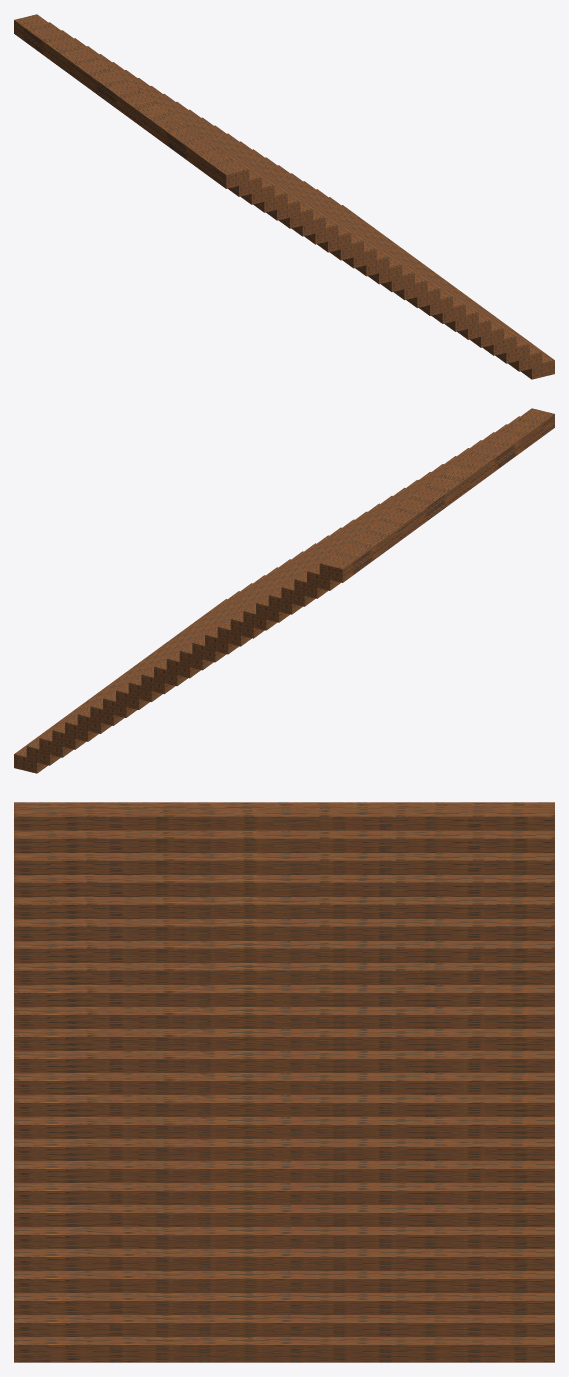
Rendered from tangga.fbx.
3 renders of one model, top to bottom at view 1: azimuth 30°, elevation 25°; view 2: azimuth 150°, elevation 25°; view 3: azimuth 270°, elevation 25°, orthographic. The views are drawn at different scales.
Parts seen in each view (by area): view 1: Cube.168; view 2: Cube.168; view 3: Cube.168.
Boxes of the visible parts, bbox=[...] form: Cube.168: bbox=[14, 14, 554, 379]; Cube.168: bbox=[14, 408, 554, 773]; Cube.168: bbox=[14, 802, 554, 1362].
Size of the model in its own units: 1109 by 900 by 1240.
Materials: 1 (1 with a texture image).
